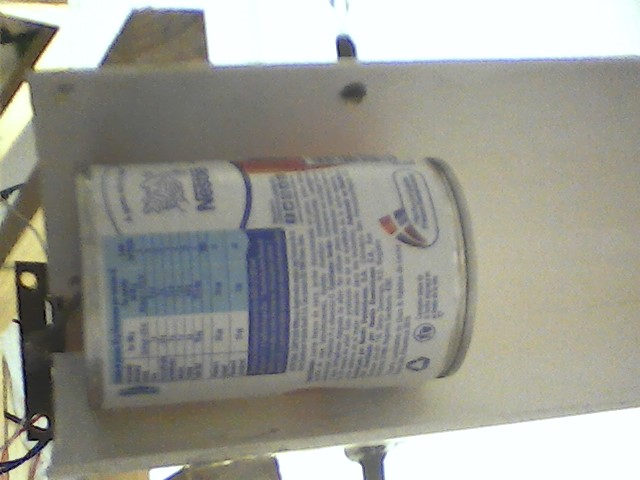lata: (68, 150, 486, 419)
